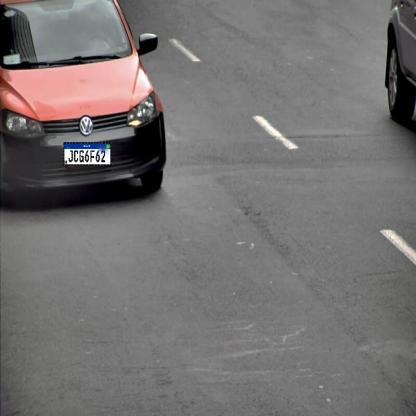PlacaM: (64, 142, 112, 166)
